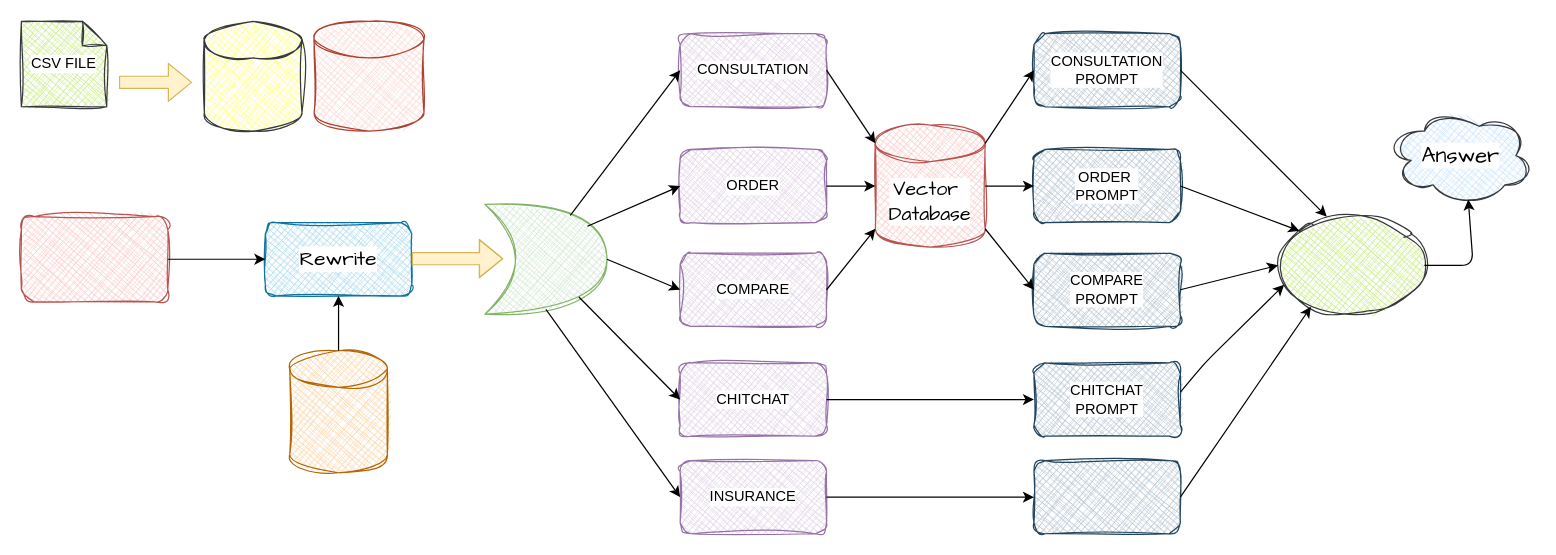
This 1556x555 diagram has some shape labels left out. The shapes that lost their labels are listed below. From the top down, each one's centre as x and y in pixels, then its label:
At pixel 252 75: "ChromaDB".
At pixel 368 75: "ElasticSearch".
At pixel 94 258: "Query".
At pixel 545 258: "Router".
At pixel 1350 264: "LLM Model".
At pixel 338 411: "History Chat".
At pixel 1106 496: "INSURANCE PROMPT".
